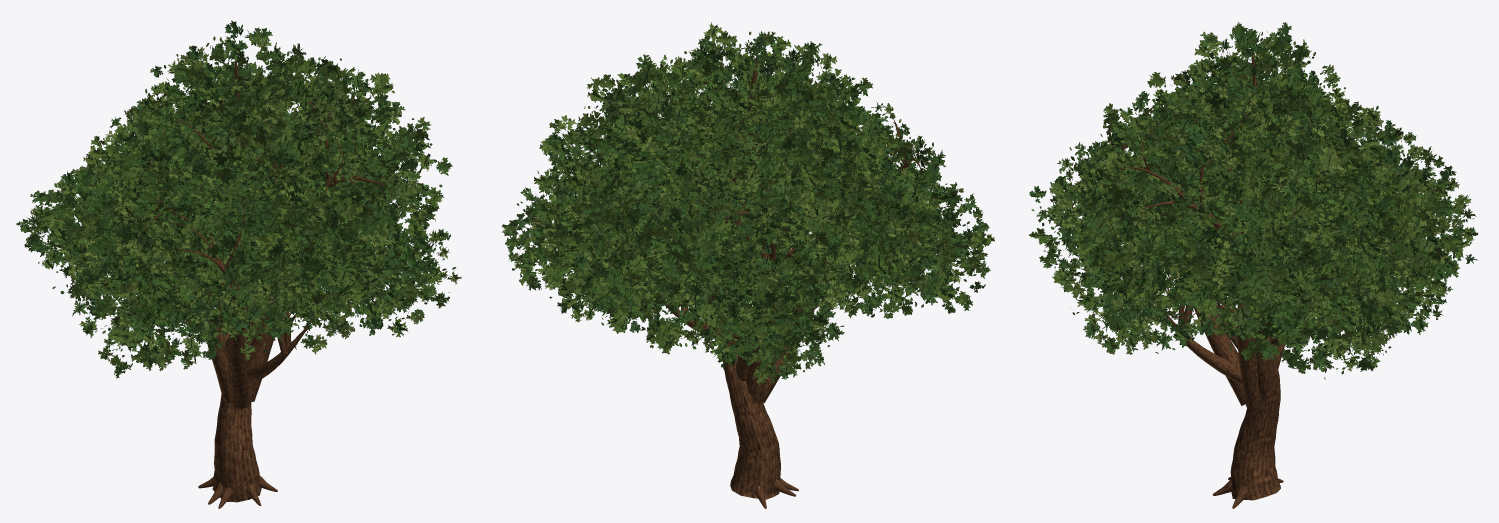
The model's file is arbol_frondoso_unreal.glb.
3 renders of one model, left to right at view 1: azimuth 30°, elevation 25°; view 2: azimuth 150°, elevation 25°; view 3: azimuth 270°, elevation 25°, orthographic.
Visible parts, largest first — view 1: Copa | racimos alpha de baja geometría, Tronco, raíces y ramaje orgánico, Copa | hojas 3D de silueta; view 2: Copa | racimos alpha de baja geometría, Copa | hojas 3D de silueta, Tronco, raíces y ramaje orgánico; view 3: Copa | racimos alpha de baja geometría, Tronco, raíces y ramaje orgánico, Copa | hojas 3D de silueta.
Part boxes in pixels (x1,y1,x2,y2): Copa | racimos alpha de baja geometría: (16, 20, 461, 378); Tronco, raíces y ramaje orgánico: (137, 60, 383, 508); Copa | hojas 3D de silueta: (24, 35, 456, 364); Copa | racimos alpha de baja geometría: (501, 22, 994, 385); Copa | hojas 3D de silueta: (508, 31, 985, 377); Tronco, raíces y ramaje orgánico: (662, 53, 920, 508); Copa | racimos alpha de baja geometría: (1029, 21, 1477, 373); Tronco, raíces y ramaje orgánico: (1106, 52, 1358, 508); Copa | hojas 3D de silueta: (1031, 29, 1474, 379).
Bounding box in the file's own units: 13.57 × 14.47 × 12.91.
Materials: 3 (3 with a texture image).
